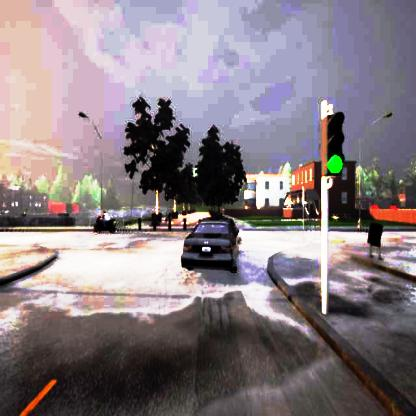motobike: (93, 212, 116, 232)
vehicle: (180, 218, 240, 273)
